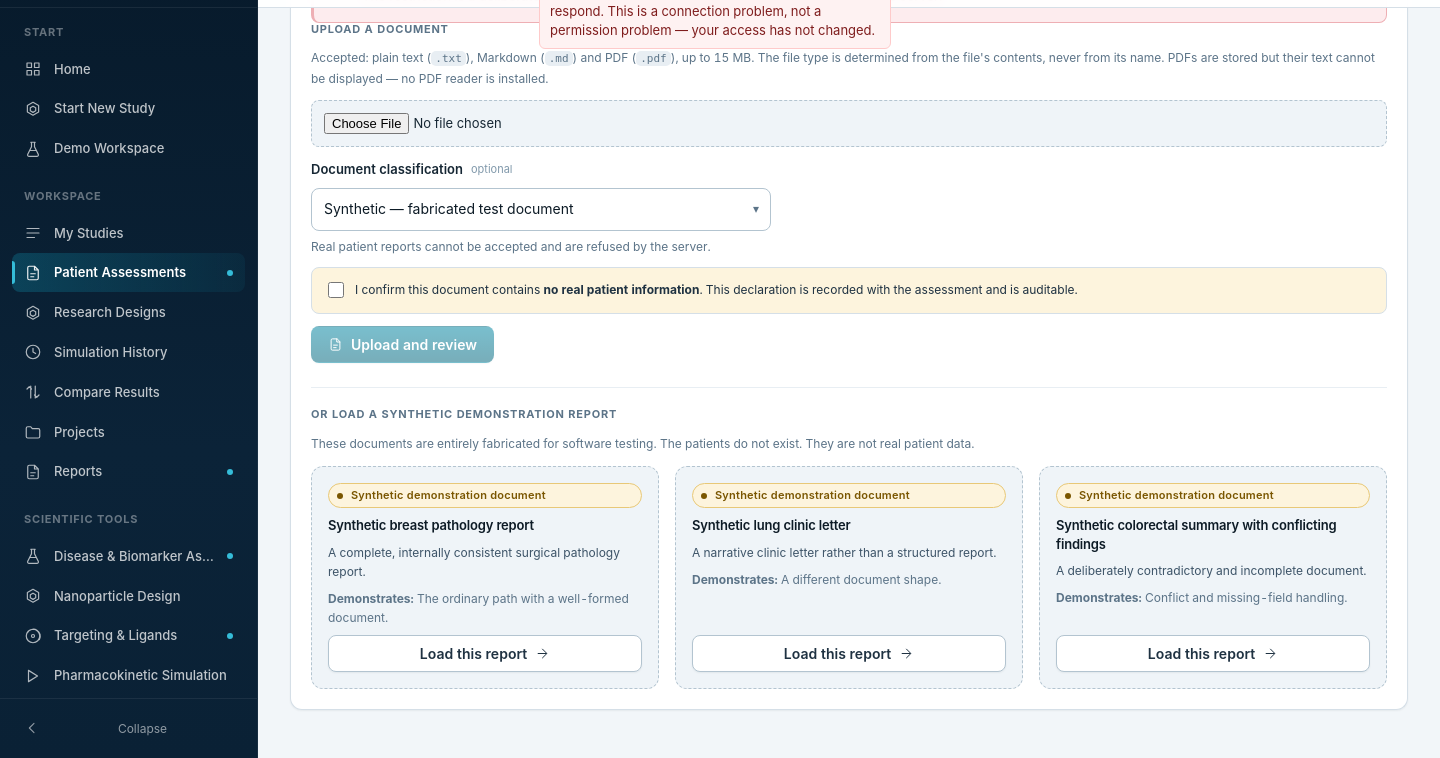
Scenario: no fabrication › shows the supporting excerpt and page for an extracted value
This screenshot has width=1440, height=758.
(page scrolled)
Expected: the element with test id "synthetic-reports" is shown, [311,466,1387,689]
What coordinates should you click on to do the following:
click the button "Load this report" below "Synthetic breast pathology report"
I would click on:
 (485, 654)
Its box is [328,635,642,672].
(page scrolled)
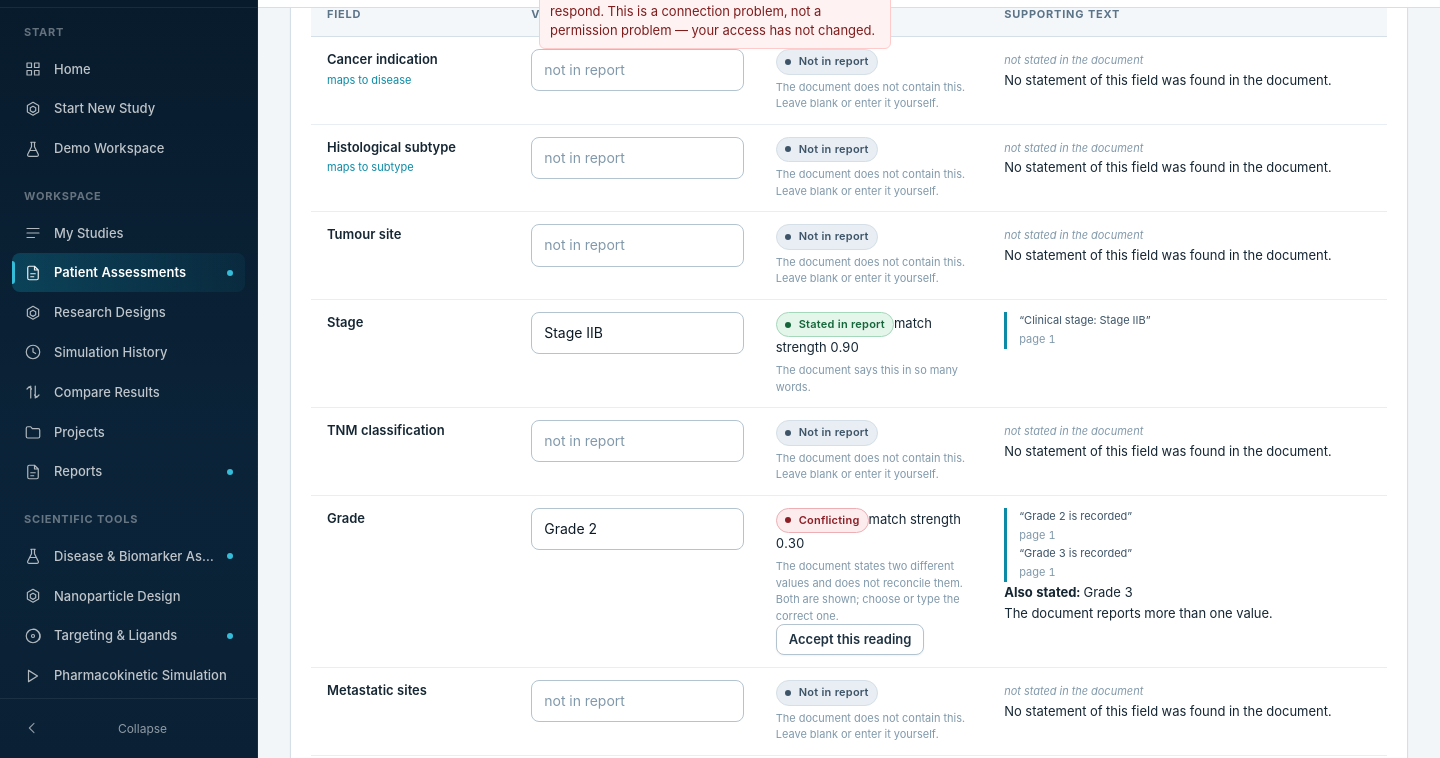
Now the row with test id "field-stage" shows "Clinical stage: Stage IIB", box [1024,313,1146,327]
Now the row with test id "field-stage" shows "page 1", box [311,299,1387,408]
